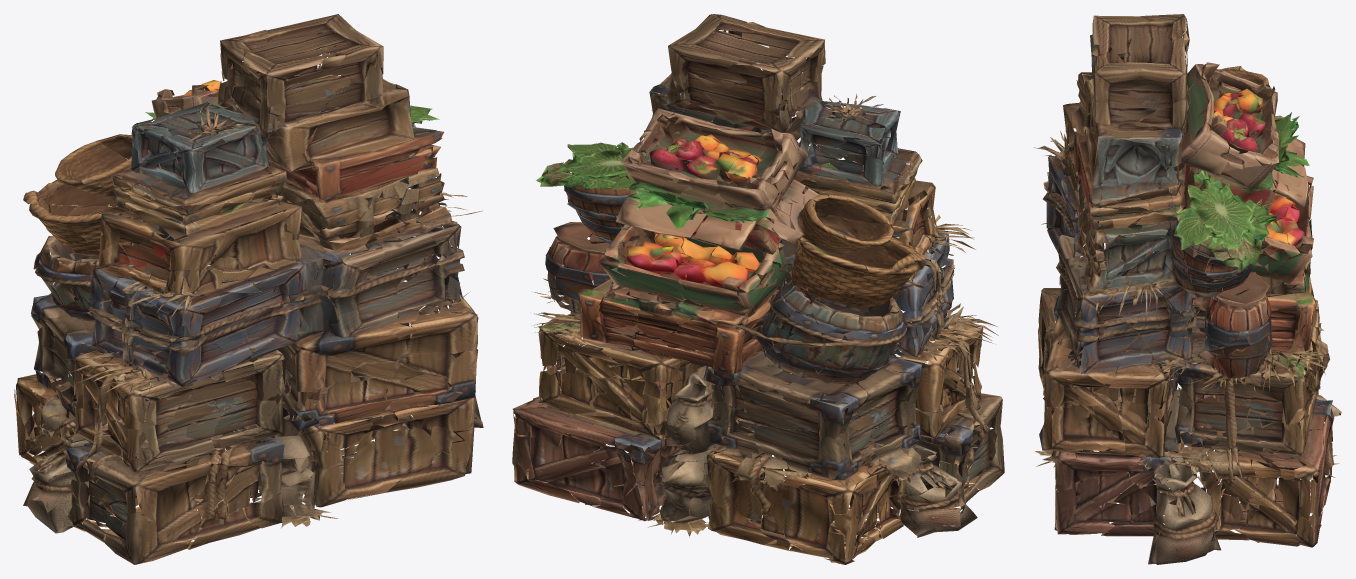
The model's file is CrateStack.fbx.
3 renders of one model, left to right at view 1: azimuth 30°, elevation 25°; view 2: azimuth 150°, elevation 25°; view 3: azimuth 270°, elevation 25°, orthographic. The views are drawn at different scales.
Visible parts, largest first — view 1: CrateStack; view 2: CrateStack; view 3: CrateStack.
Part boxes in pixels (x1,y1,x2,y2): CrateStack: [14, 14, 483, 564]; CrateStack: [512, 14, 1004, 564]; CrateStack: [1034, 14, 1341, 564].
Size of the model in its own units: 1.68 by 1.58 by 1.02.
1 material, 1 textured.
